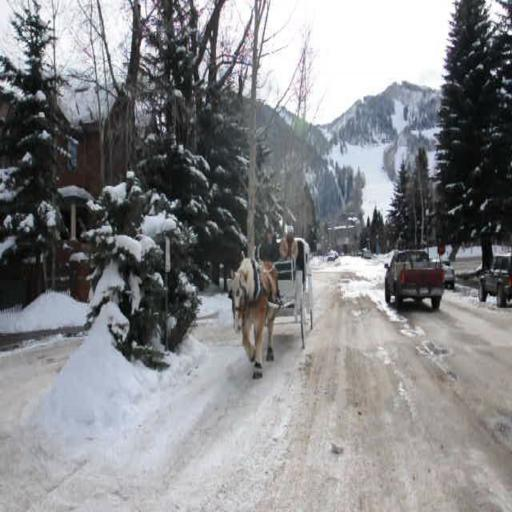horse: (228, 254, 279, 380)
